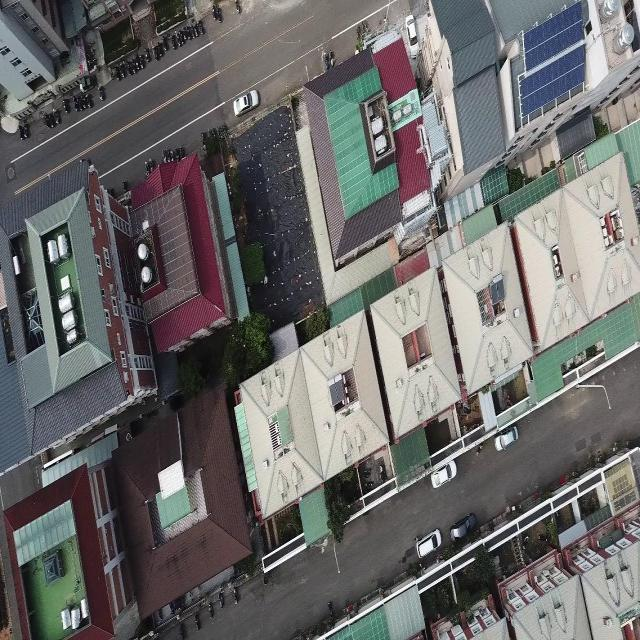car: (415, 527, 442, 560), (449, 512, 478, 542), (429, 458, 456, 488), (233, 87, 259, 115), (495, 425, 519, 452)
